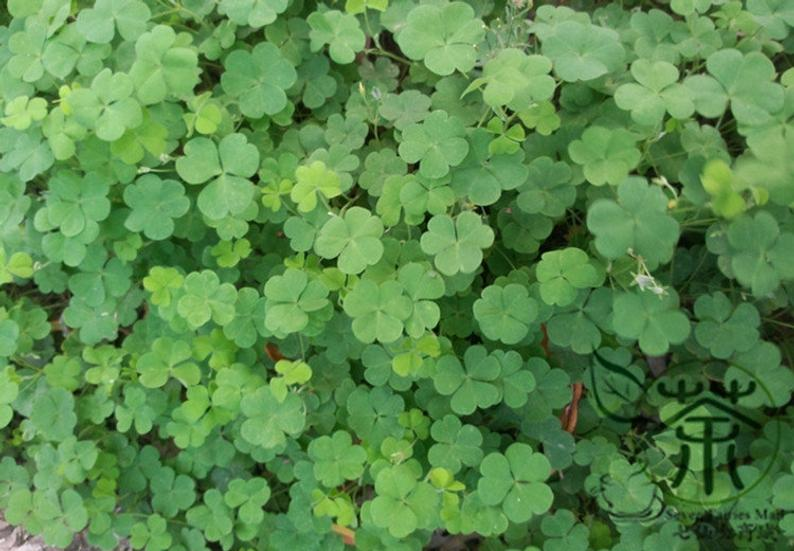oxalis: (32, 18, 788, 551)
